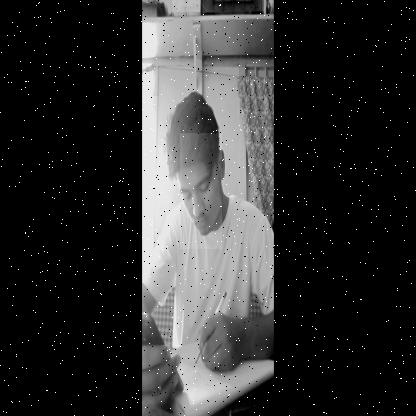Distracted: (180, 133, 222, 249)
